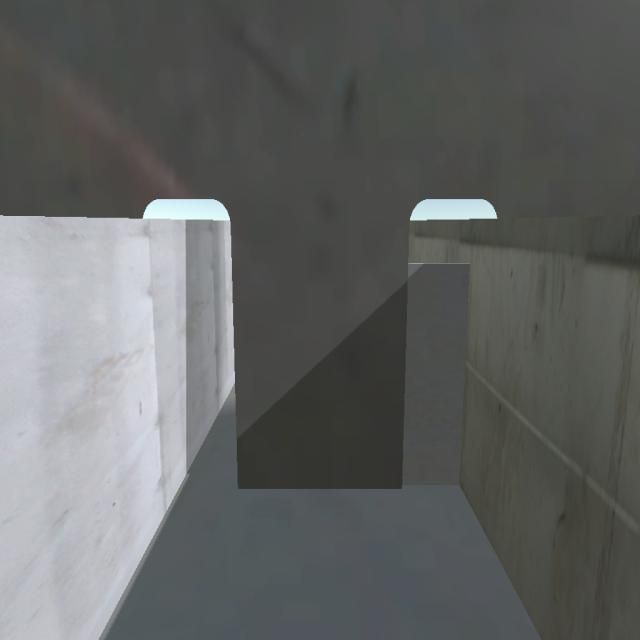fillet_yong_jeop_jang: (237, 474, 464, 494)
longi_yong_jeop_jang: (451, 264, 481, 491)
plate_behind: (390, 264, 473, 498)
